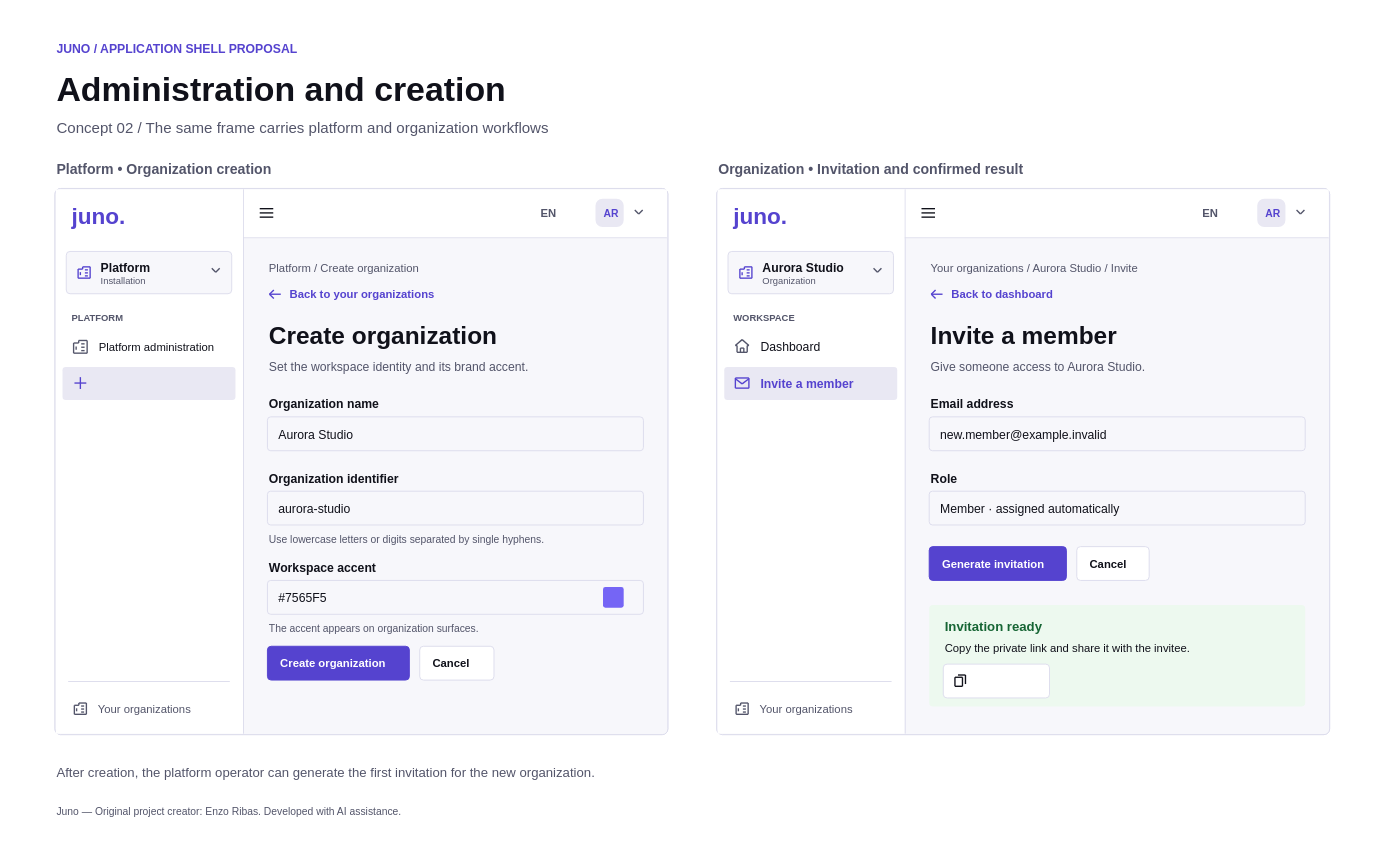
The diagram is 1385 pixels wide and 844 high, and some of its shapes have lost their labels. Here are the shapes that lost their labels. From the top down, the centre of each, then its label:
At pixel 148 383: "New organization".
At pixel 996 680: "Copy link".
